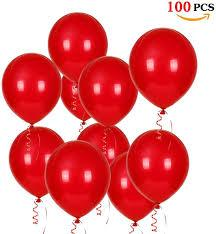red: (129, 26, 198, 111), (45, 140, 111, 222), (127, 128, 189, 206), (47, 11, 108, 83), (2, 53, 62, 125), (7, 126, 64, 198), (80, 57, 137, 126), (107, 151, 157, 224), (76, 123, 130, 162), (61, 73, 95, 119)
